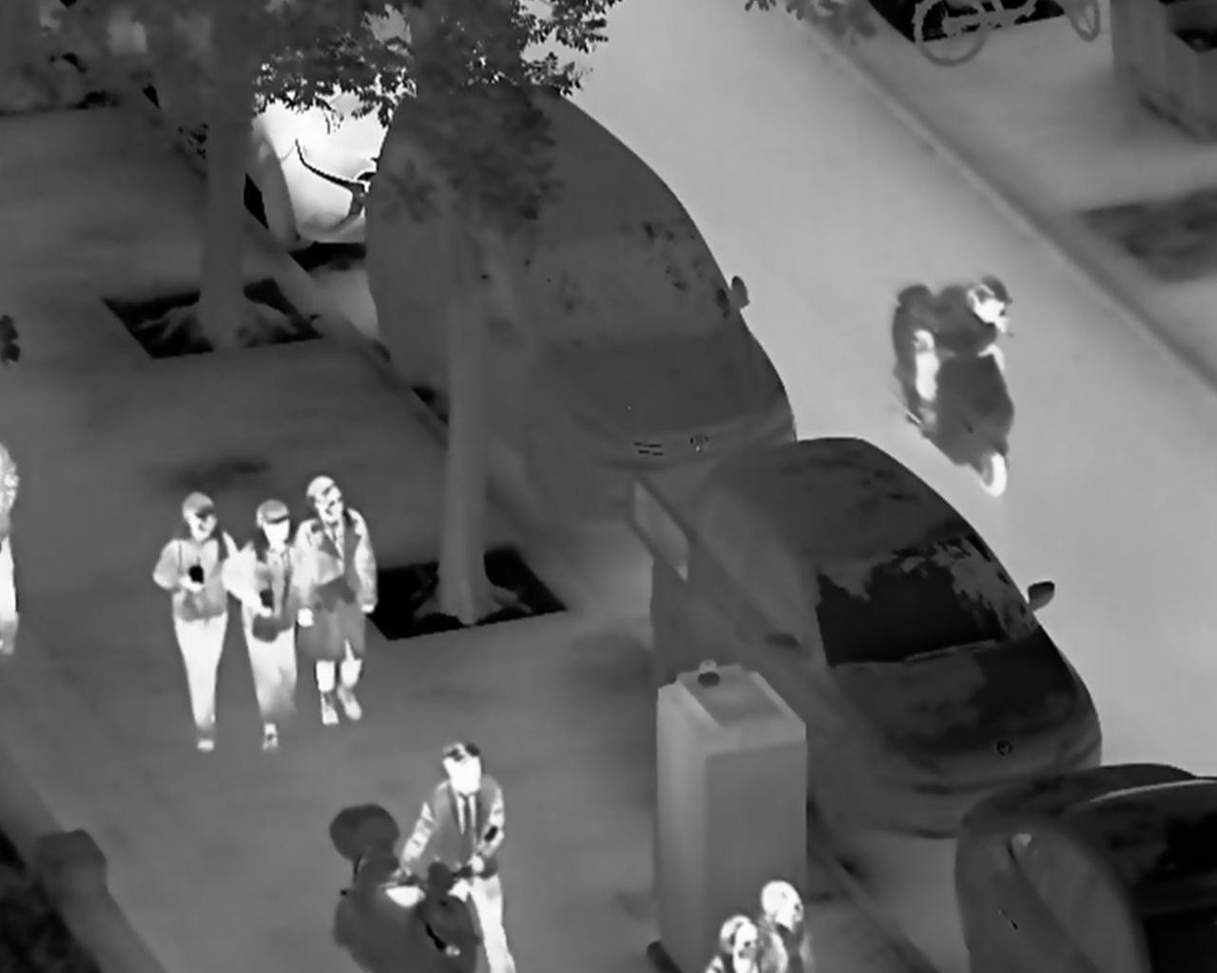person: (392, 741, 517, 973), (218, 496, 308, 754), (152, 489, 238, 756), (293, 472, 375, 729), (911, 275, 1012, 435)
